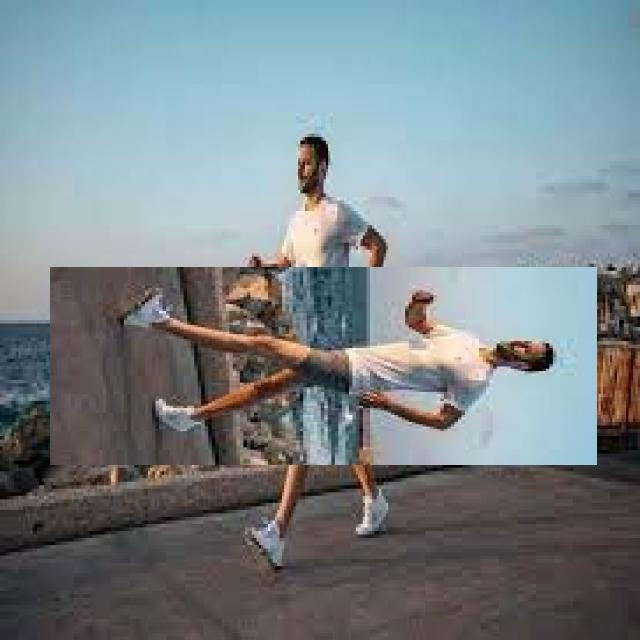NotFall: (149, 230, 581, 447)
